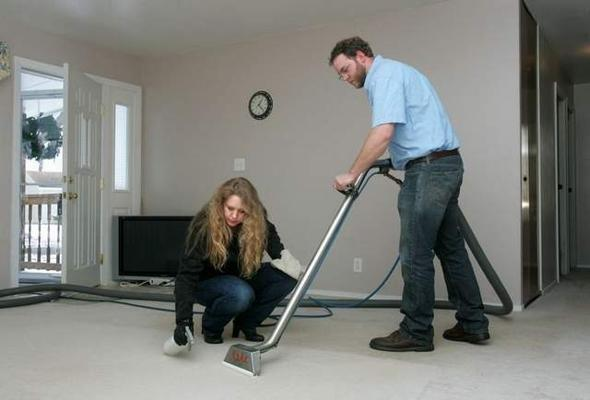person: (329, 36, 493, 354)
